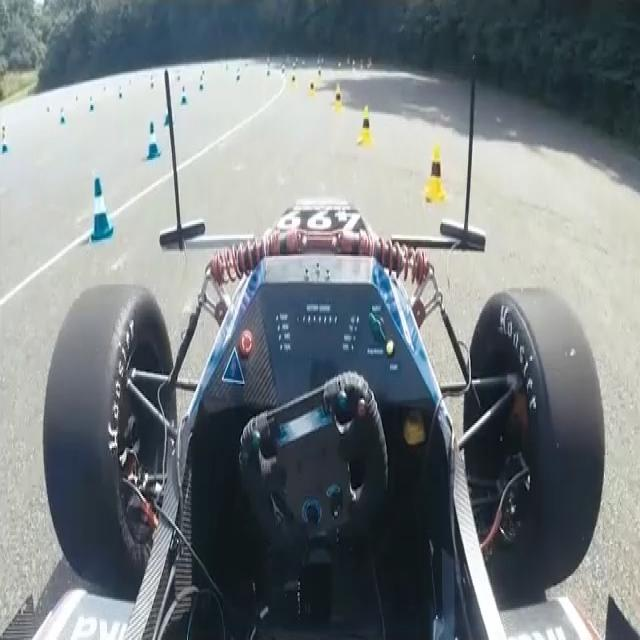blue_cone: (85, 173, 114, 243), (146, 116, 162, 160), (164, 97, 173, 125), (180, 84, 187, 105), (2, 132, 8, 156), (60, 107, 66, 125), (199, 78, 205, 94), (90, 99, 94, 111), (119, 86, 123, 98)
yellow_cone: (423, 145, 446, 203), (356, 104, 374, 147), (333, 84, 343, 112), (308, 80, 315, 99), (290, 74, 297, 91), (2, 125, 8, 142), (47, 103, 52, 120), (74, 95, 80, 108)
